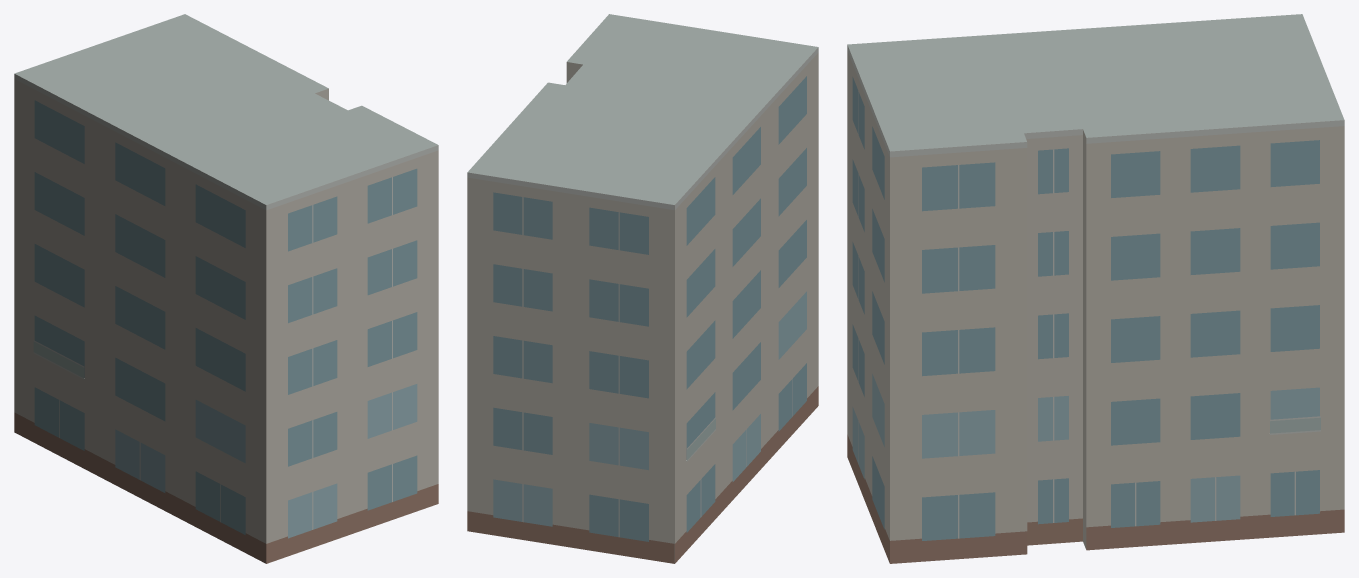
The model's file is survey-upis-32575505.glb.
3 views of the same model, side by side, from view 1: azimuth 30°, elevation 25°; view 2: azimuth 150°, elevation 25°; view 3: azimuth 270°, elevation 25° (orthographic). The views are drawn at different scales.
Visible parts, largest first — view 1: survey-upis-32575505.tmp; view 2: survey-upis-32575505.tmp; view 3: survey-upis-32575505.tmp.
Boxes of the visible parts, x1,y1,x2,y2 form: survey-upis-32575505.tmp: (14,14,438,563); survey-upis-32575505.tmp: (467,14,818,563); survey-upis-32575505.tmp: (847,14,1344,563).
Size of the model in its own units: 12.09 by 16.9 by 18.48.
